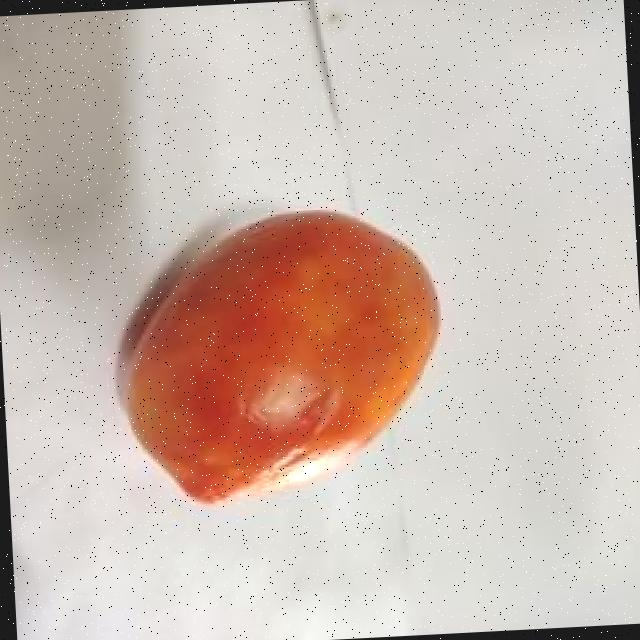Ripe: (108, 198, 456, 515)
